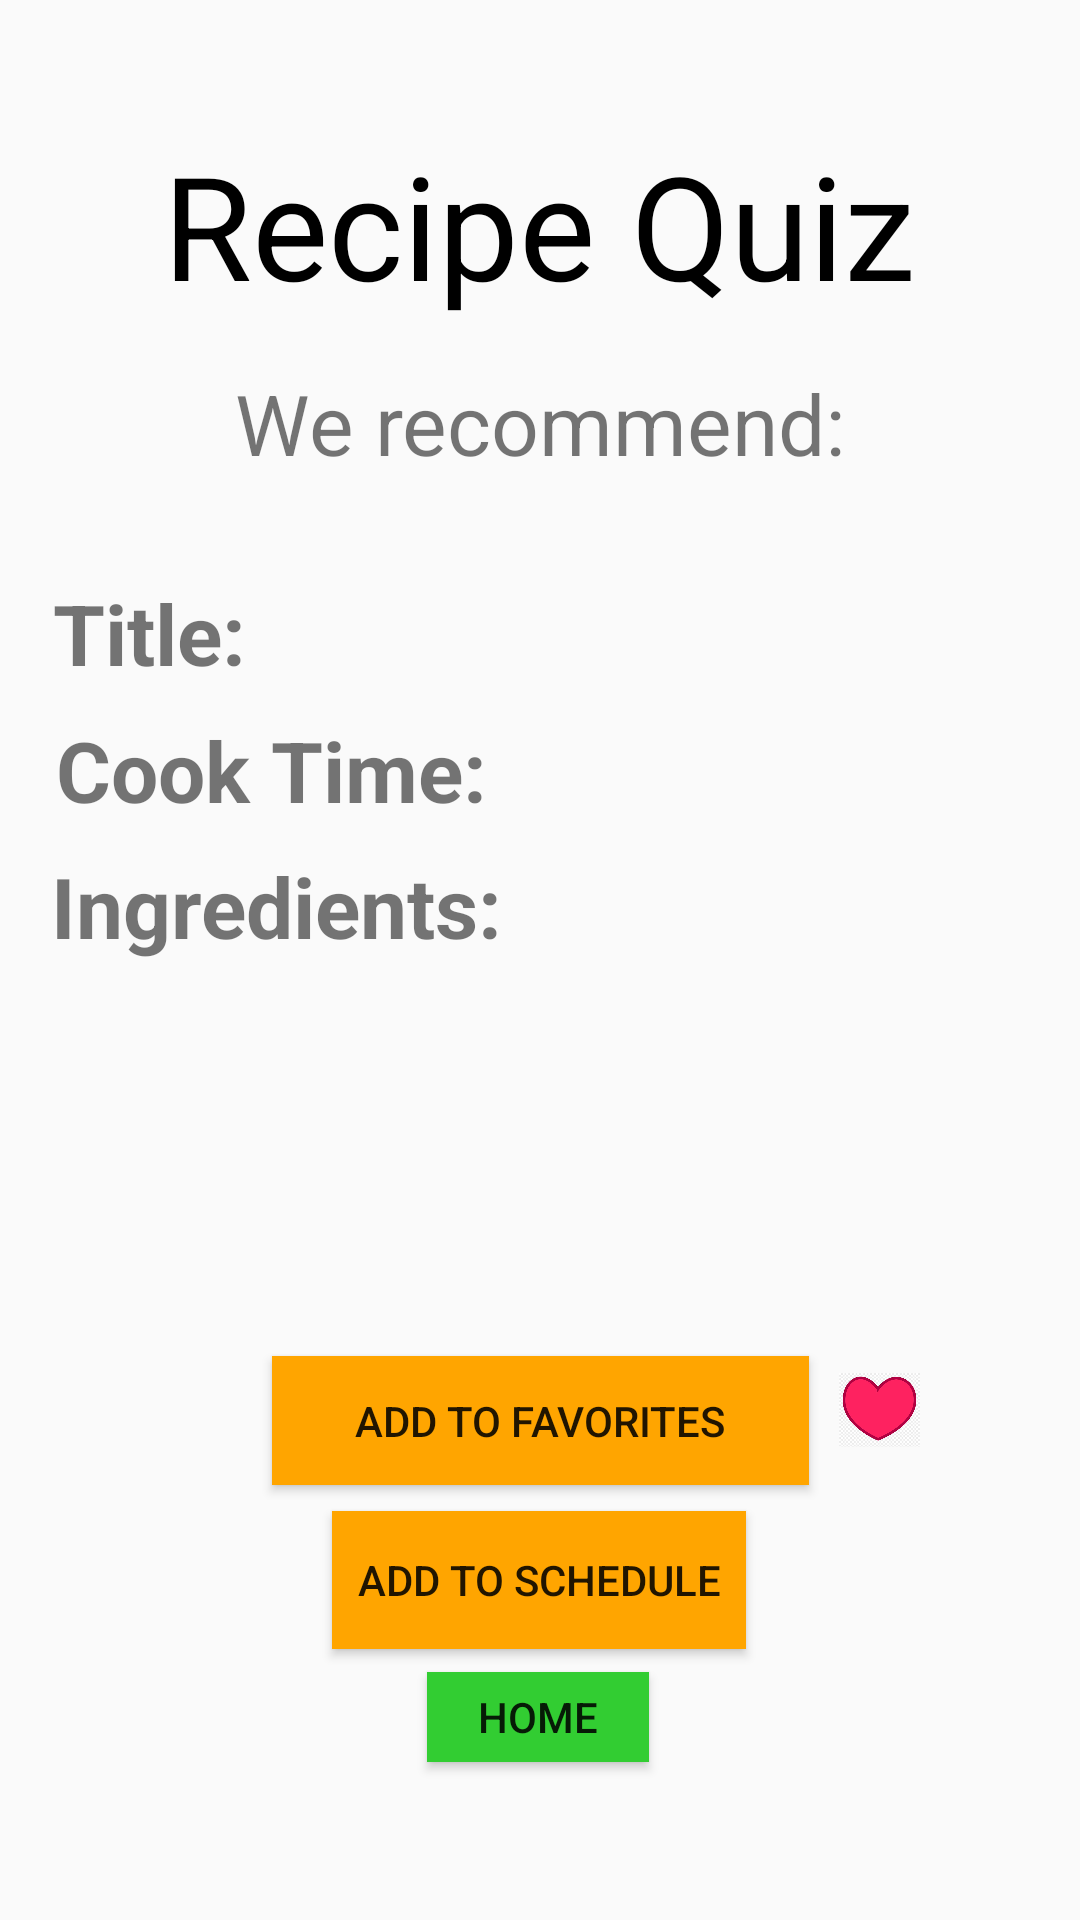

Icon bounding boxes for this 1080×1920 phone screenshot, format (x1, y1, x2, y2):
heart: (843, 1376, 918, 1441)
